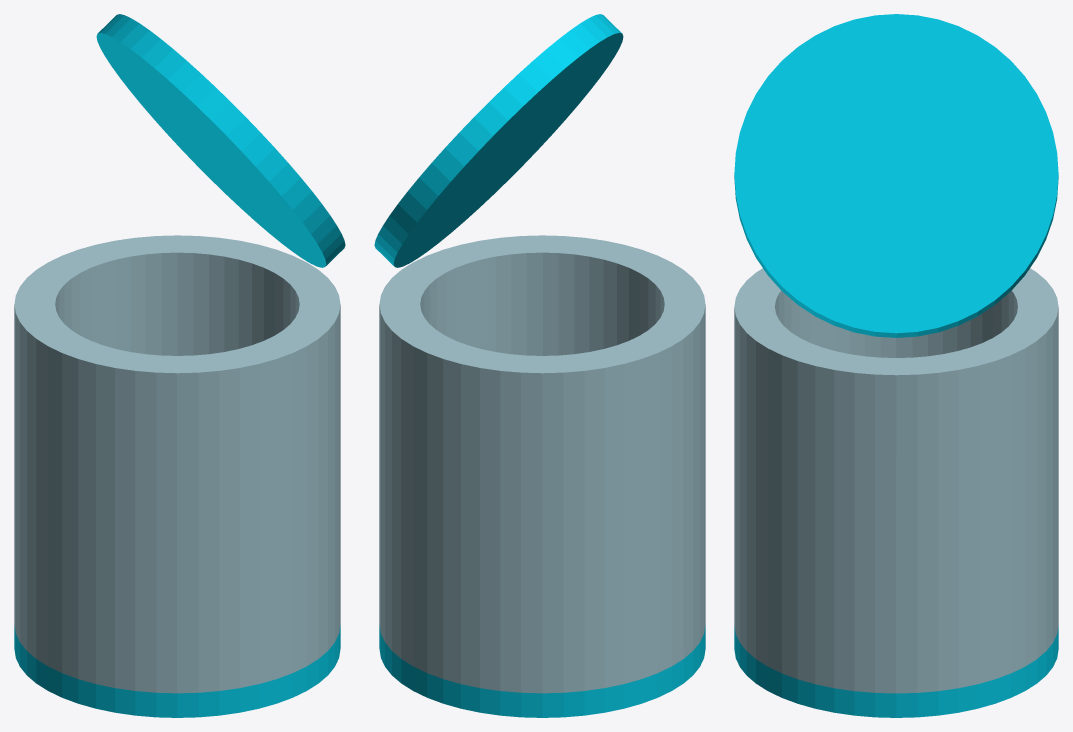
File: Clear Storage Stool.glb
The picture shows the model from 3 angles, left to right: view 1: azimuth 30°, elevation 25°; view 2: azimuth 150°, elevation 25°; view 3: azimuth 270°, elevation 25°; orthographic projection.
Parts seen in each view (by area): view 1: Stool Body, Stool Top, Stool Bottom; view 2: Stool Body, Stool Top, Stool Bottom; view 3: Stool Body, Stool Top, Stool Bottom.
Boxes of the visible parts, x1,y1,x2,y2 form: Stool Body: [14, 235, 340, 693]; Stool Top: [96, 14, 345, 267]; Stool Bottom: [14, 625, 340, 717]; Stool Body: [379, 235, 705, 693]; Stool Top: [374, 14, 623, 267]; Stool Bottom: [379, 625, 705, 717]; Stool Body: [734, 268, 1058, 693]; Stool Top: [734, 14, 1058, 337]; Stool Bottom: [734, 626, 1058, 717].
Bounding box in the file's own units: 38.1 × 80.66 × 38.1.
